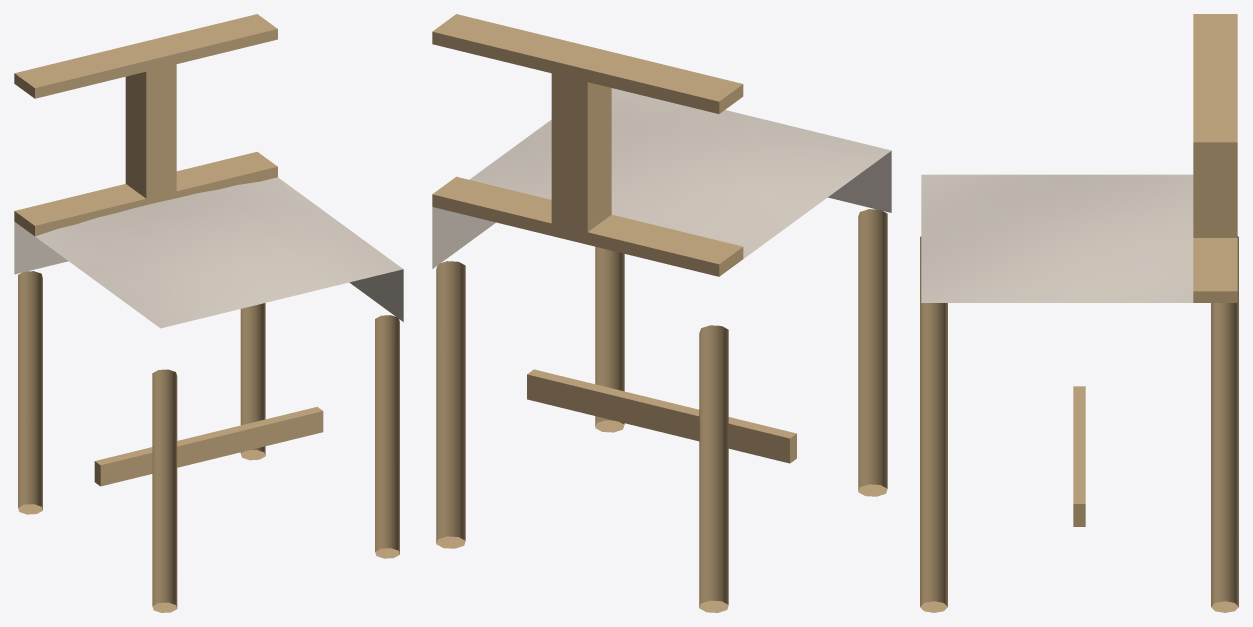
File: dining-chair.glb
The picture shows the model from 3 angles, left to right: view 1: azimuth 30°, elevation 25°; view 2: azimuth 150°, elevation 25°; view 3: azimuth 270°, elevation 25°; orthographic projection. The views are drawn at different scales.
Size of the model in its own units: 0.484 by 0.82 by 0.504.
